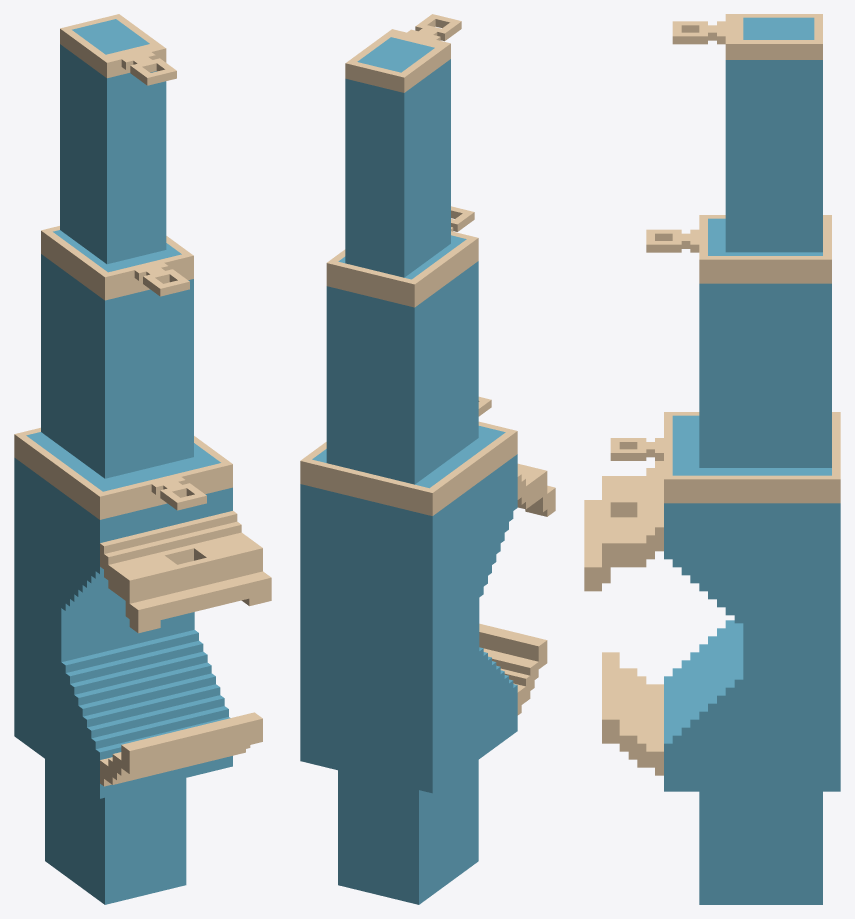
The model's file is Fishing_Rod_Slim.vox.obj.
3 renders of one model, left to right at view 1: azimuth 30°, elevation 25°; view 2: azimuth 150°, elevation 25°; view 3: azimuth 270°, elevation 25°, orthographic. The views are drawn at different scales.
Size of the model in its own units: 1.8 by 10.7 by 2.9.
